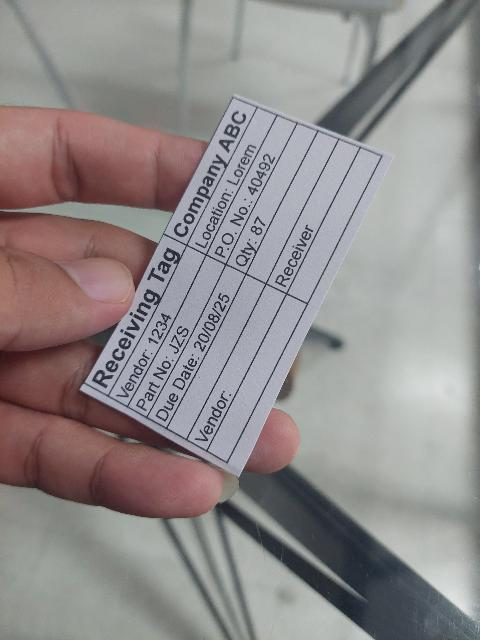PO no: (207, 122, 297, 262)
part no: (126, 260, 224, 418)
qty: (226, 135, 317, 275)
tags: (79, 95, 394, 481)
